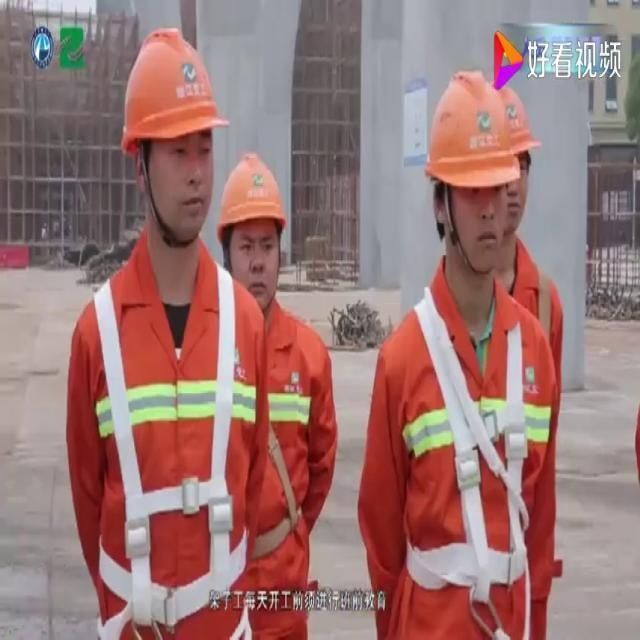Arnes_seguridad: (86, 251, 254, 628), (400, 267, 537, 604)
